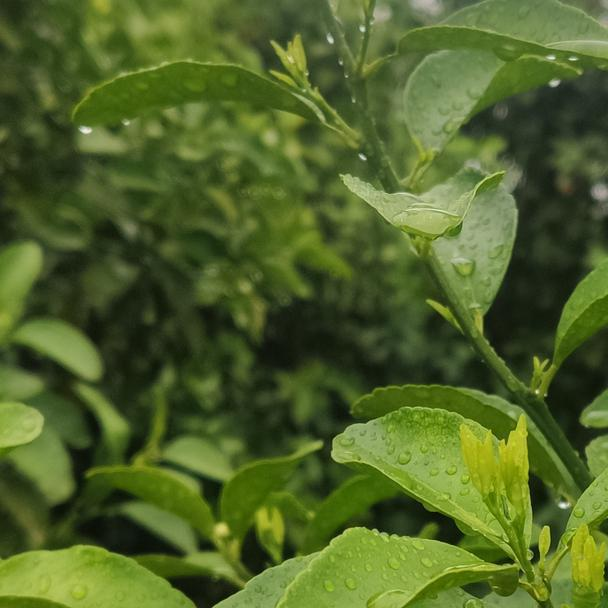shoot: (461, 420, 546, 554)
